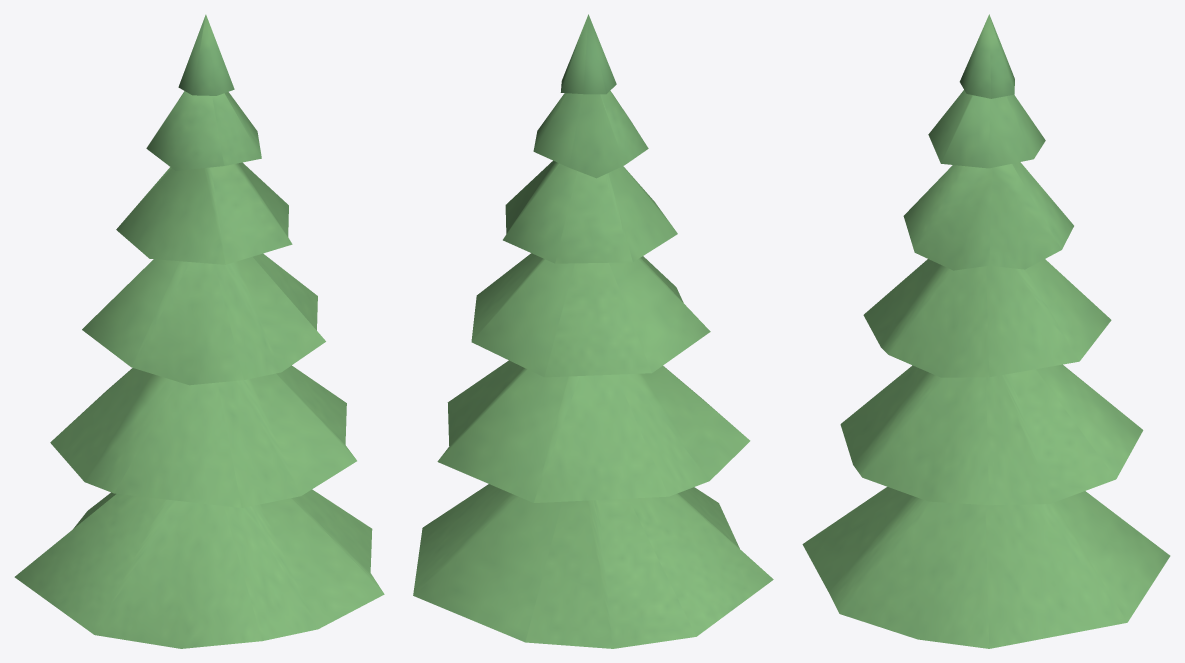
The model's file is pine_canopy_lod1.gltf.
The picture shows the model from 3 angles, left to right: view 1: azimuth 30°, elevation 25°; view 2: azimuth 150°, elevation 25°; view 3: azimuth 270°, elevation 25°; orthographic projection.
Parts seen in each view (by area): view 1: pine_canopy_LOD1; view 2: pine_canopy_LOD1; view 3: pine_canopy_LOD1.
Boxes of the visible parts, x1,y1,x2,y2 form: pine_canopy_LOD1: (14, 14, 384, 648); pine_canopy_LOD1: (413, 14, 773, 648); pine_canopy_LOD1: (802, 14, 1170, 648).
Size of the model in its own units: 4.37 by 7.49 by 4.42.
1 material, 1 textured.
